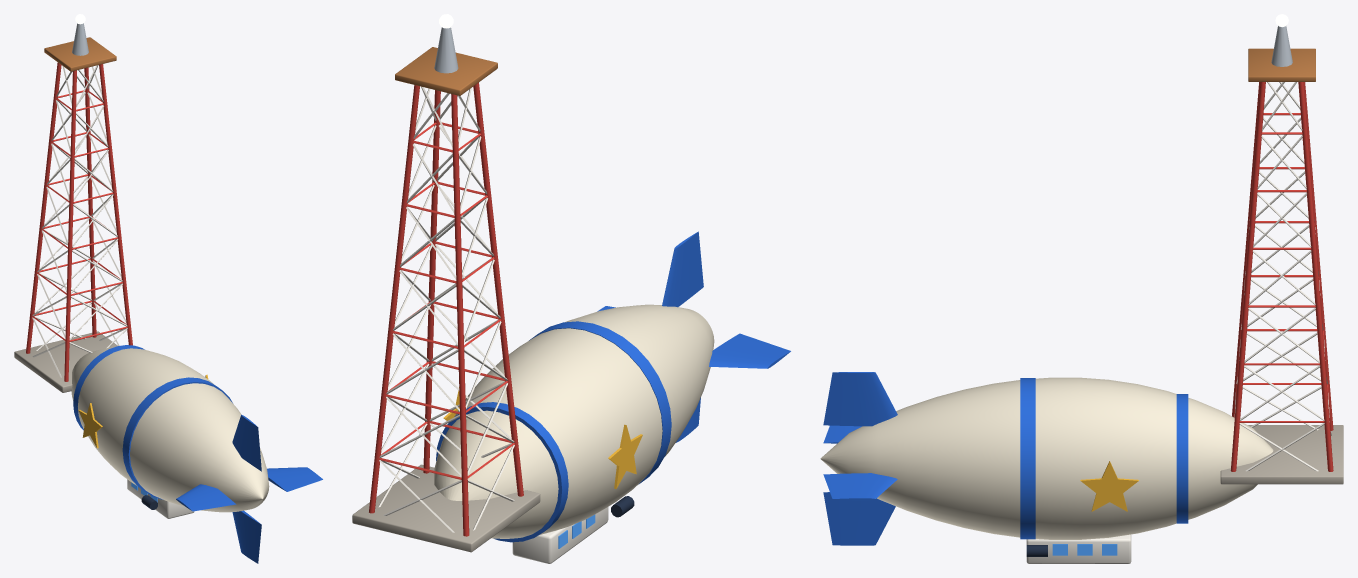
Rendered from zeppelinmast.glb.
3 renders of one model, left to right at view 1: azimuth 30°, elevation 25°; view 2: azimuth 150°, elevation 25°; view 3: azimuth 270°, elevation 25°, orthographic. The views are drawn at different scales.
Parts seen in each view (by area): view 1: Zeppelin, zeppelinmast_lod0; view 2: Zeppelin, zeppelinmast_lod0; view 3: Zeppelin, zeppelinmast_lod0.
Part boxes in pixels (x1=…): Zeppelin: x1=71, y1=345, x2=322, y2=563; zeppelinmast_lod0: x1=14, y1=14, x2=132, y2=392; Zeppelin: x1=434, y1=231, x2=790, y2=563; zeppelinmast_lod0: x1=352, y1=14, x2=540, y2=552; Zeppelin: x1=820, y1=372, x2=1273, y2=563; zeppelinmast_lod0: x1=1220, y1=14, x2=1343, y2=484.
Size of what is drawn, in the model's own units: 6.2 by 19.42 by 17.
